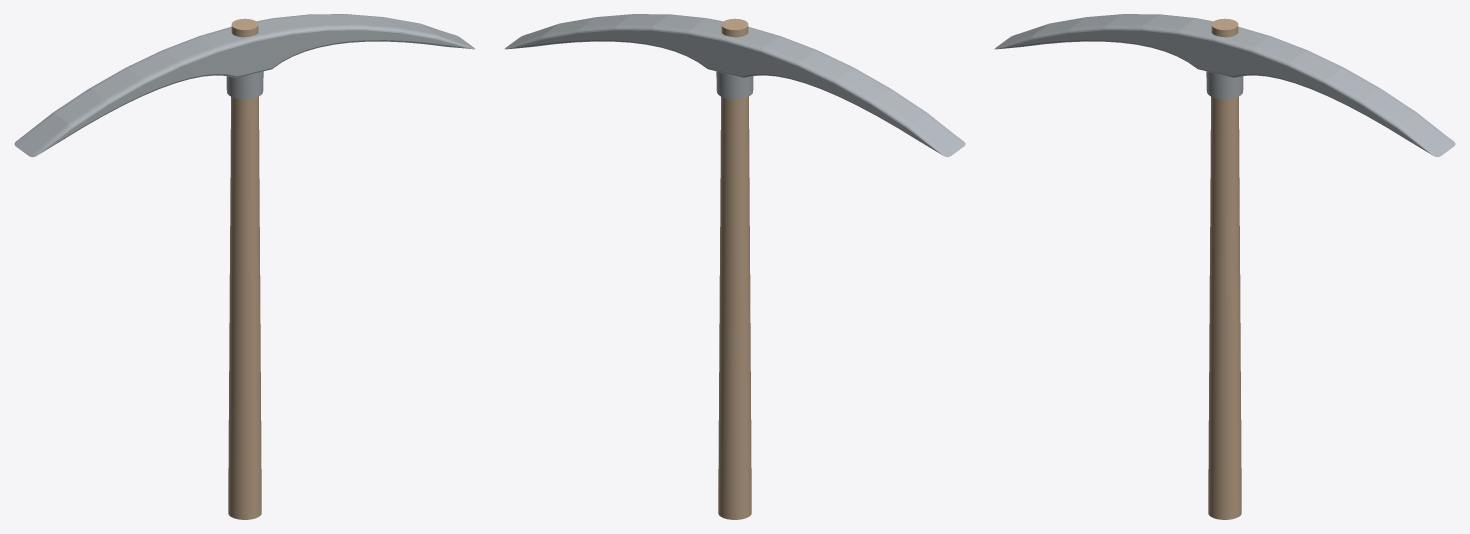
File: hakke_3d.glb
3 views of the same model, side by side, from view 1: azimuth 30°, elevation 25°; view 2: azimuth 150°, elevation 25°; view 3: azimuth 330°, elevation 25° (orthographic).
Bounding box in the file's own units: 15.26 × 16 × 1.2.
